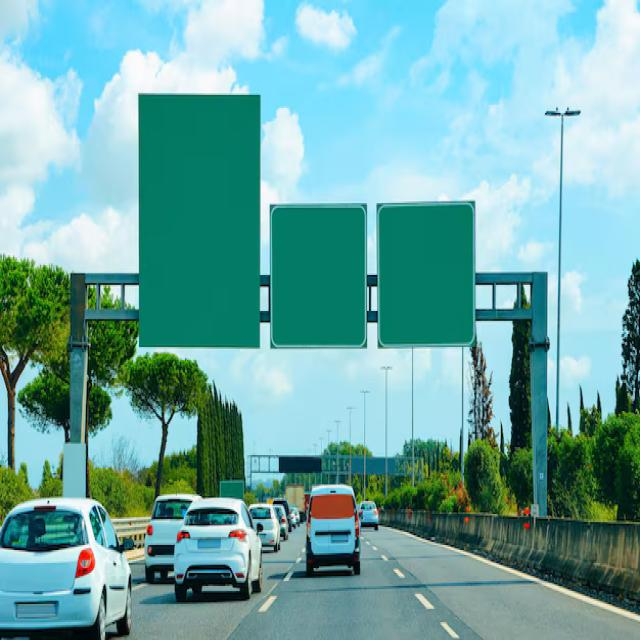Billboard_overhead: (124, 79, 262, 348), (263, 183, 369, 367), (374, 182, 481, 354)
Billboard_overhead_small: (271, 439, 336, 476)
Roadcorner: (420, 527, 639, 638)
Roadlane: (366, 537, 477, 638), (241, 547, 307, 635)
